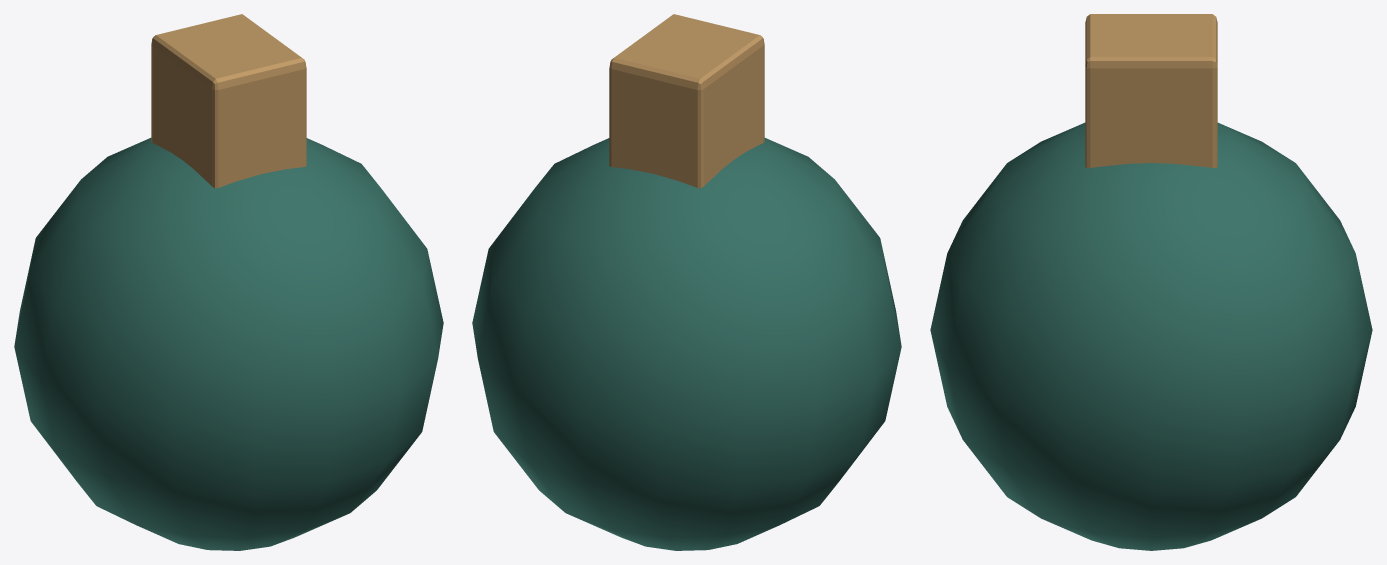
Rendered from SM_Keeper_Sobek_Tail6.fbx.
3 views of the same model, side by side, from view 1: azimuth 30°, elevation 25°; view 2: azimuth 150°, elevation 25°; view 3: azimuth 270°, elevation 25° (orthographic). The views are drawn at different scales.
Visible parts, largest first — view 1: SM_Keeper_Sobek_Tail6; view 2: SM_Keeper_Sobek_Tail6; view 3: SM_Keeper_Sobek_Tail6.
Boxes of the visible parts, x1,y1,x2,y2 form: SM_Keeper_Sobek_Tail6: [14, 14, 443, 550]; SM_Keeper_Sobek_Tail6: [472, 14, 901, 550]; SM_Keeper_Sobek_Tail6: [930, 14, 1372, 550].
Size of the model in its own units: 2 by 2.47 by 2.
